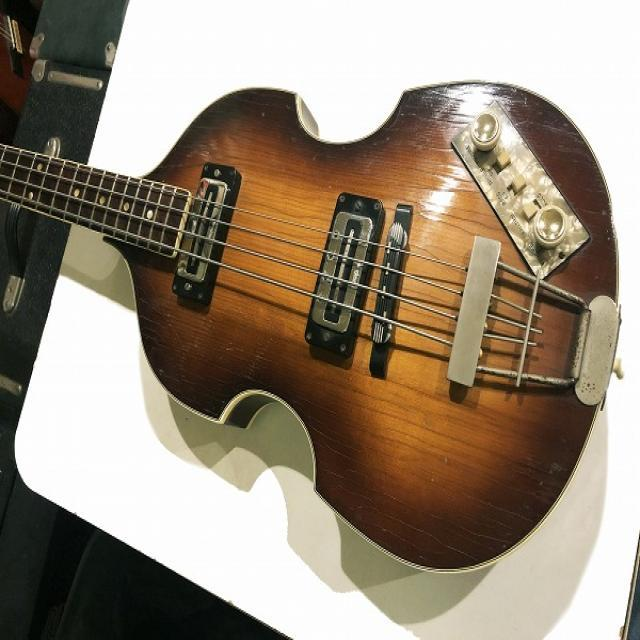bass: (0, 84, 618, 569)
